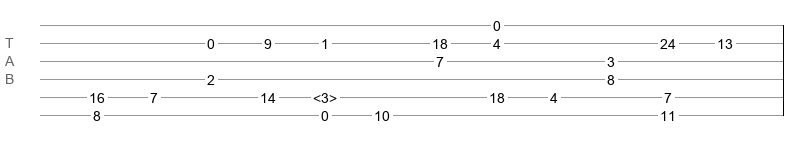0: (207, 36, 215, 46), (321, 108, 329, 118), (493, 18, 501, 28)
1: (321, 36, 329, 46)
10: (374, 108, 390, 118)
11: (660, 108, 676, 118)
13: (717, 36, 733, 46)
14: (260, 90, 276, 100)
16: (89, 90, 105, 100)
18: (432, 36, 448, 46), (489, 90, 505, 100)
2: (207, 72, 215, 82)
24: (660, 36, 676, 46)
3: (607, 54, 615, 64)
4: (493, 36, 501, 46), (550, 90, 558, 100)
7: (150, 90, 158, 100), (436, 54, 444, 64), (664, 90, 672, 100)
8: (93, 108, 101, 118), (607, 72, 615, 82)
9: (264, 36, 272, 46)
harmonic: (313, 90, 337, 100)
